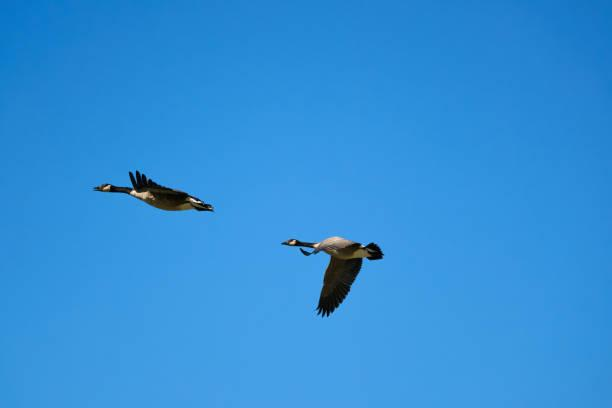Canadian-Goose: (283, 233, 386, 320), (93, 167, 216, 217)
